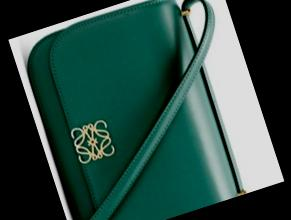LOEWE: (62, 113, 119, 168)
